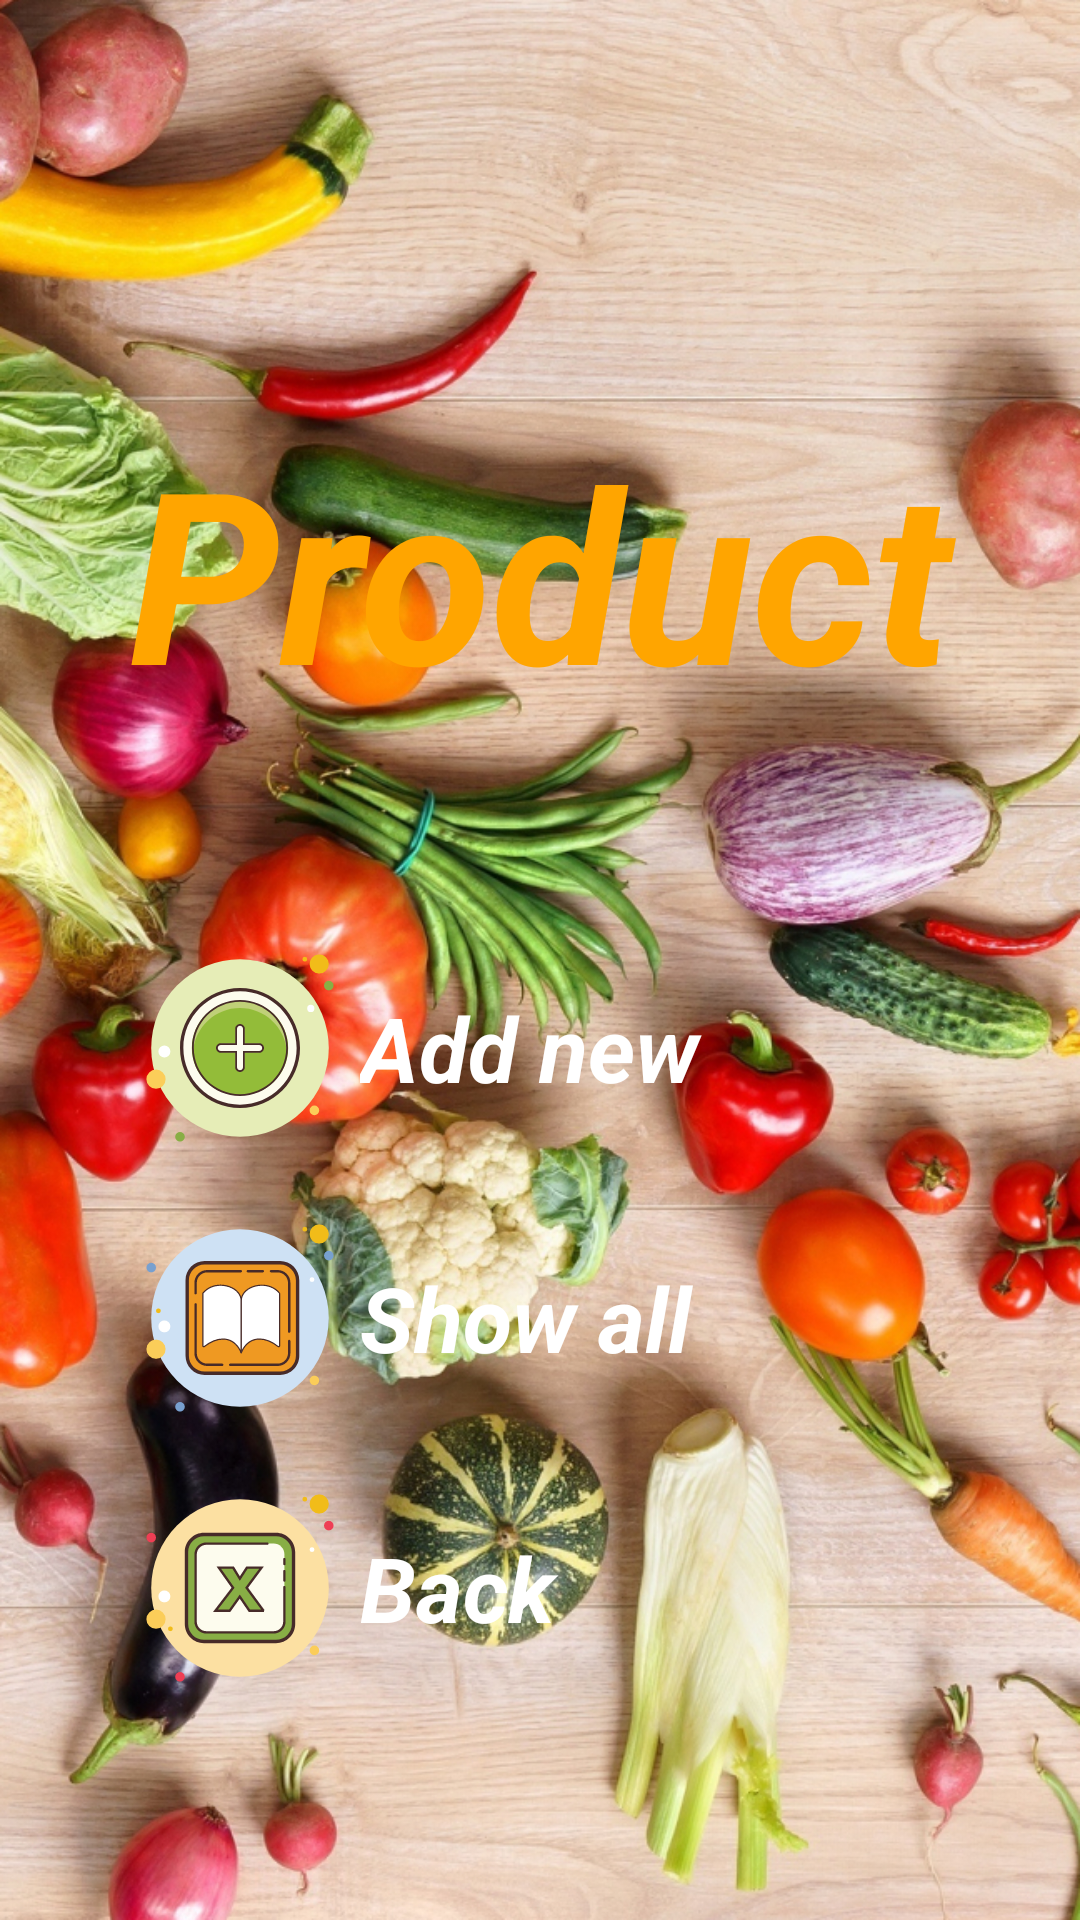

Screen size 1080*1920. Icon name, then its center in pixels as (x=x, y=y):
Add product: (x=240, y=1048)
Show product: (x=240, y=1318)
